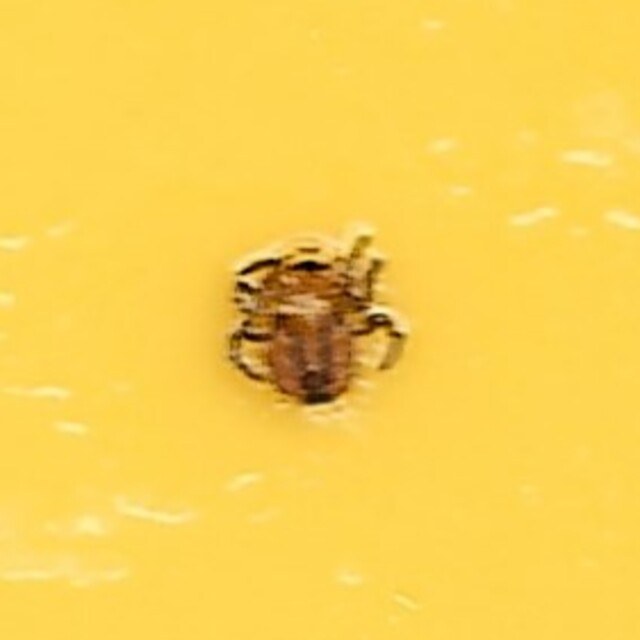Araneae: (228, 224, 412, 416)
